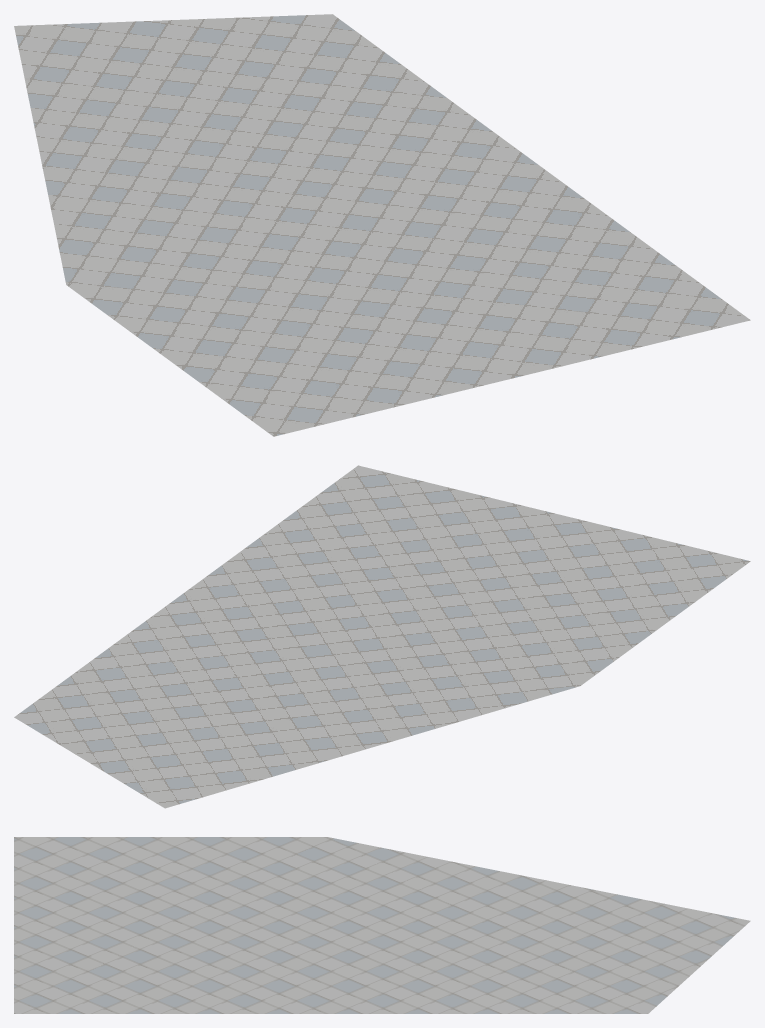
Rendered from kd_connection_town-ground_surface_1_48.glb.
The picture shows the model from 3 angles, top to bottom: view 1: azimuth 30°, elevation 25°; view 2: azimuth 150°, elevation 25°; view 3: azimuth 270°, elevation 25°; orthographic projection. The views are drawn at different scales.
Parts seen in each view (by area): view 1: kd_connection_town-ground_surface_1_48; view 2: kd_connection_town-ground_surface_1_48; view 3: kd_connection_town-ground_surface_1_48.
Part boxes in pixels (<box>): kd_connection_town-ground_surface_1_48: <box>14,14,750,436</box>; kd_connection_town-ground_surface_1_48: <box>14,465,750,808</box>; kd_connection_town-ground_surface_1_48: <box>14,837,750,1013</box>.
Size of the model in its own units: 4.11 by 9.54e-07 by 7.25.
Materials: 1 (1 with a texture image).
